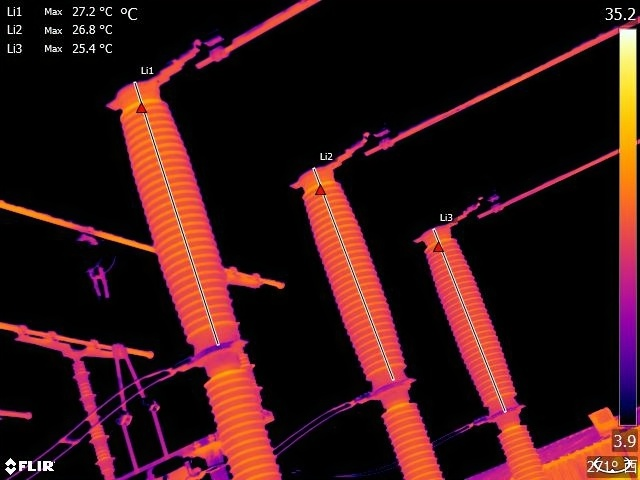circuit breaker: (113, 77, 287, 480), (294, 152, 447, 480), (425, 211, 562, 480)
post insulator: (72, 356, 115, 480)
switch: (86, 252, 170, 461)
